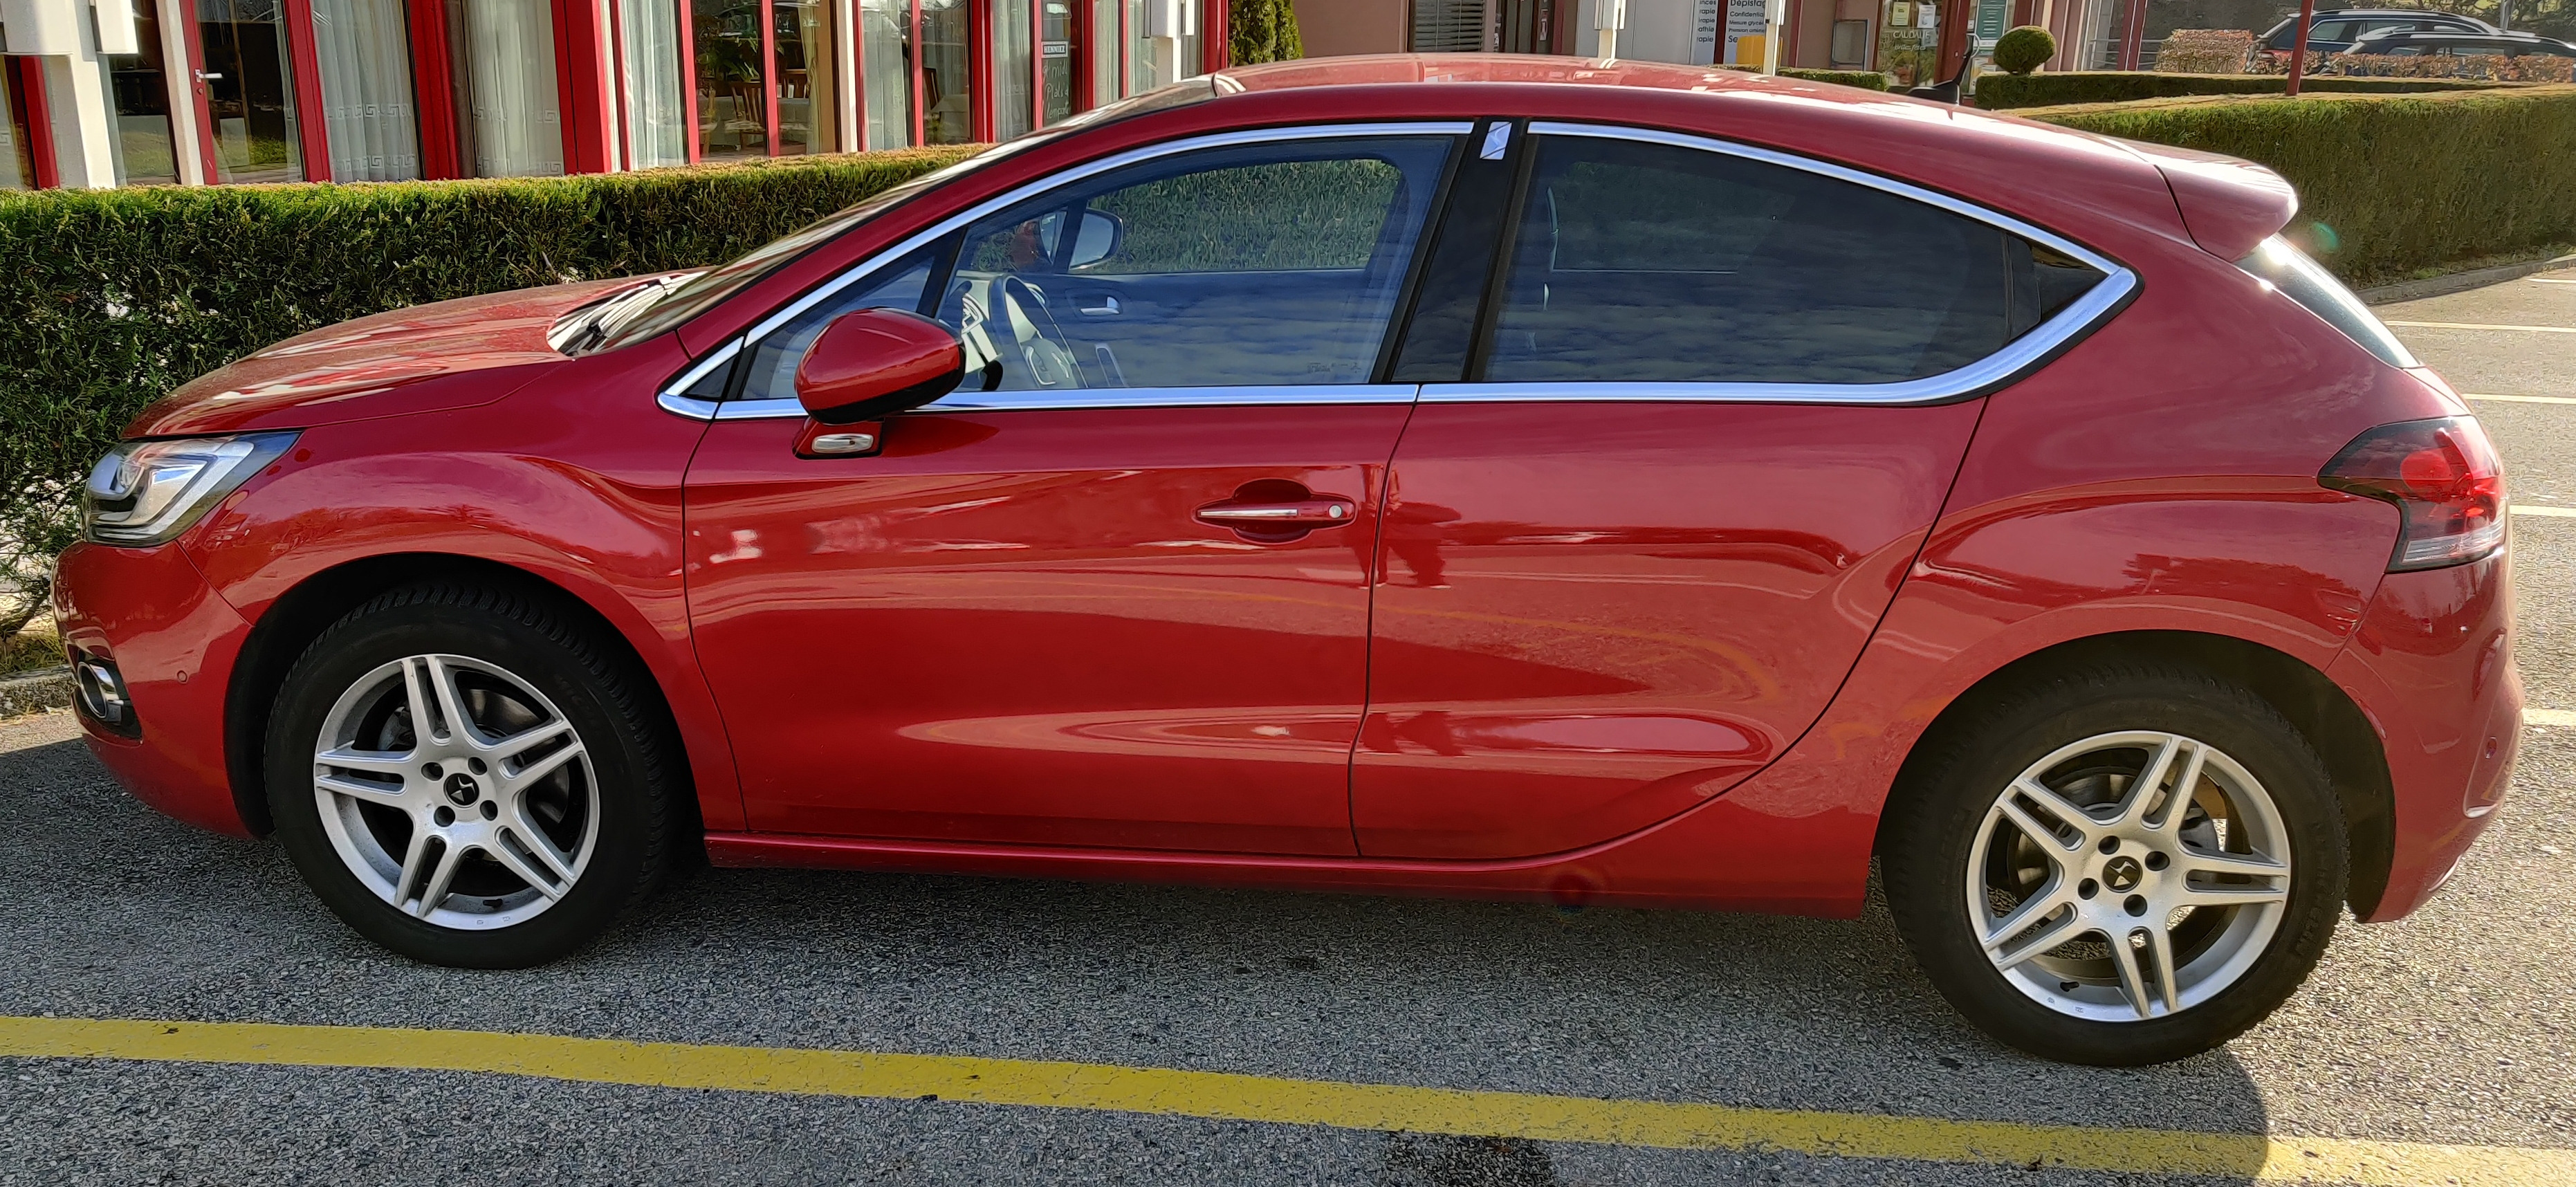mobil: (41, 31, 2540, 1077)
